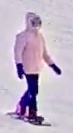snowboarder: (5, 12, 62, 127)
